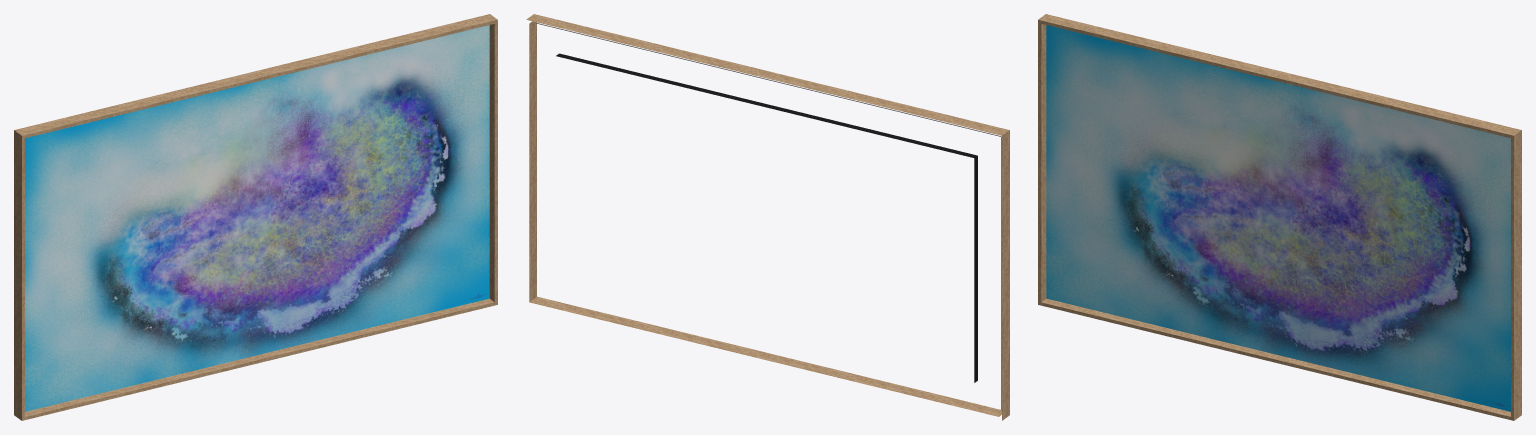
File: hz009_grand_caisse-chene.glb
The picture shows the model from 3 angles, left to right: view 1: azimuth 30°, elevation 25°; view 2: azimuth 150°, elevation 25°; view 3: azimuth 330°, elevation 25°; orthographic projection.
Visible parts, largest first — view 1: hz009_grand_caisse-chene; view 2: hz009_grand_caisse-chene; view 3: hz009_grand_caisse-chene.
Boxes of the visible parts, x1=… form: hz009_grand_caisse-chene: x1=14, y1=14, x2=497, y2=420; hz009_grand_caisse-chene: x1=526, y1=14, x2=1009, y2=420; hz009_grand_caisse-chene: x1=1038, y1=14, x2=1521, y2=420.
Size of the model in its own units: 1.23 by 0.703 by 0.035.
4 materials, 2 textured.
